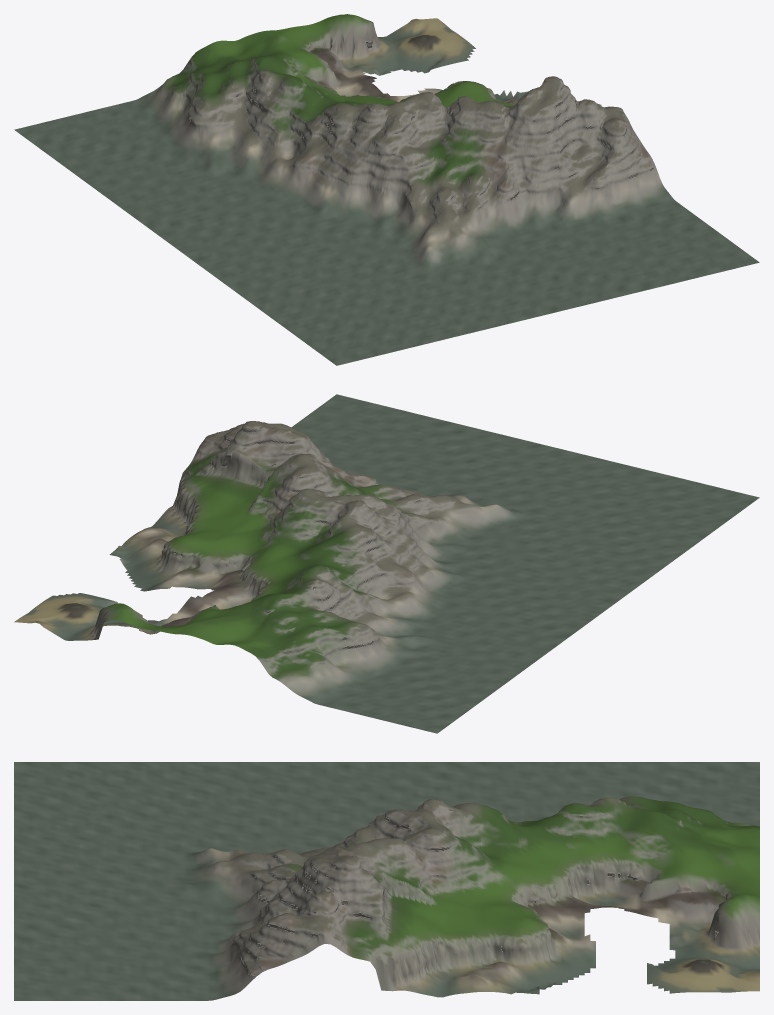
Rendered from coast_tile_x0z3.glb.
The picture shows the model from 3 angles, top to bottom: view 1: azimuth 30°, elevation 25°; view 2: azimuth 150°, elevation 25°; view 3: azimuth 270°, elevation 25°; orthographic projection. The views are drawn at different scales.
Parts seen in each view (by area): view 1: coast_tile_x0z3; view 2: coast_tile_x0z3; view 3: coast_tile_x0z3.
Boxes of the visible parts, x1,y1,x2,y2 form: coast_tile_x0z3: (14, 14, 759, 365); coast_tile_x0z3: (14, 394, 759, 733); coast_tile_x0z3: (14, 762, 759, 1000).
Bounding box in the file's own units: 600 × 127 × 792.
